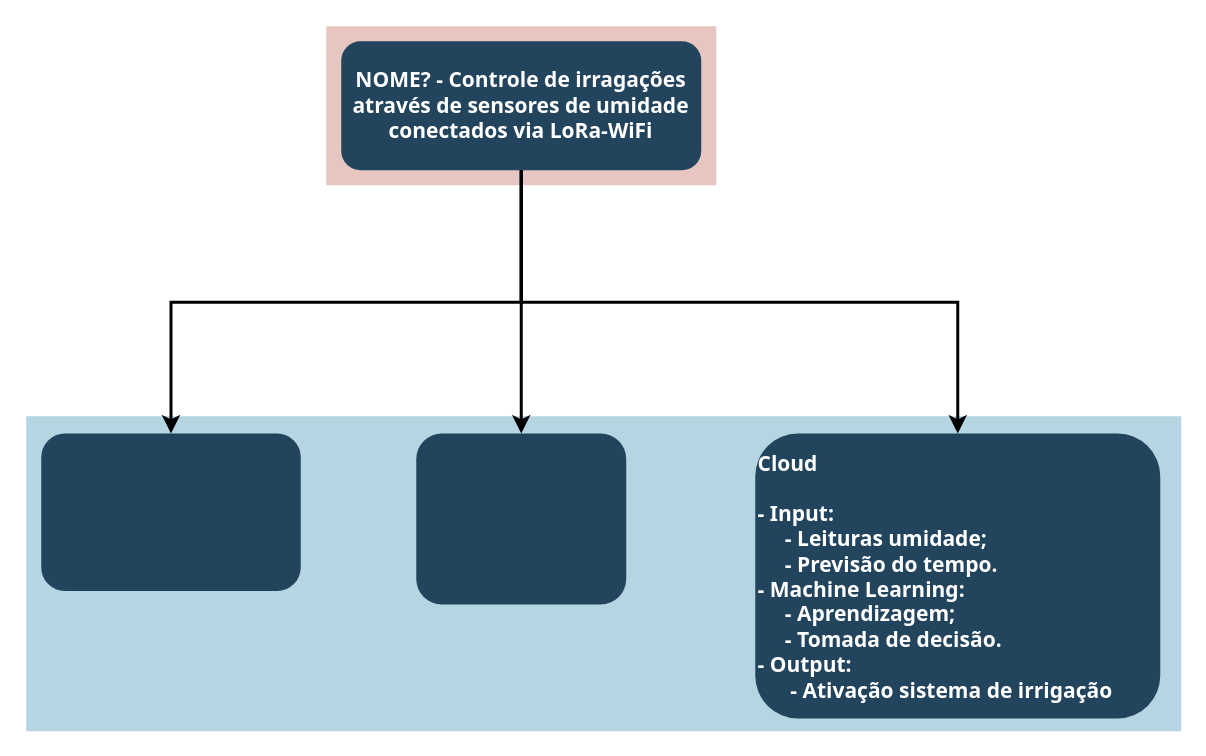
Some shapes in this 1206 by 756 pixel diagram are drawn without their labels. Each missing label, with the centre of its shape:
Device - LoRa-WiFi; - Sensor de umidade; - Atuador irrigação.: point 170,511
Gateway - LoRa-WiFi; - Ethernet; - Memória.: point 521,518
